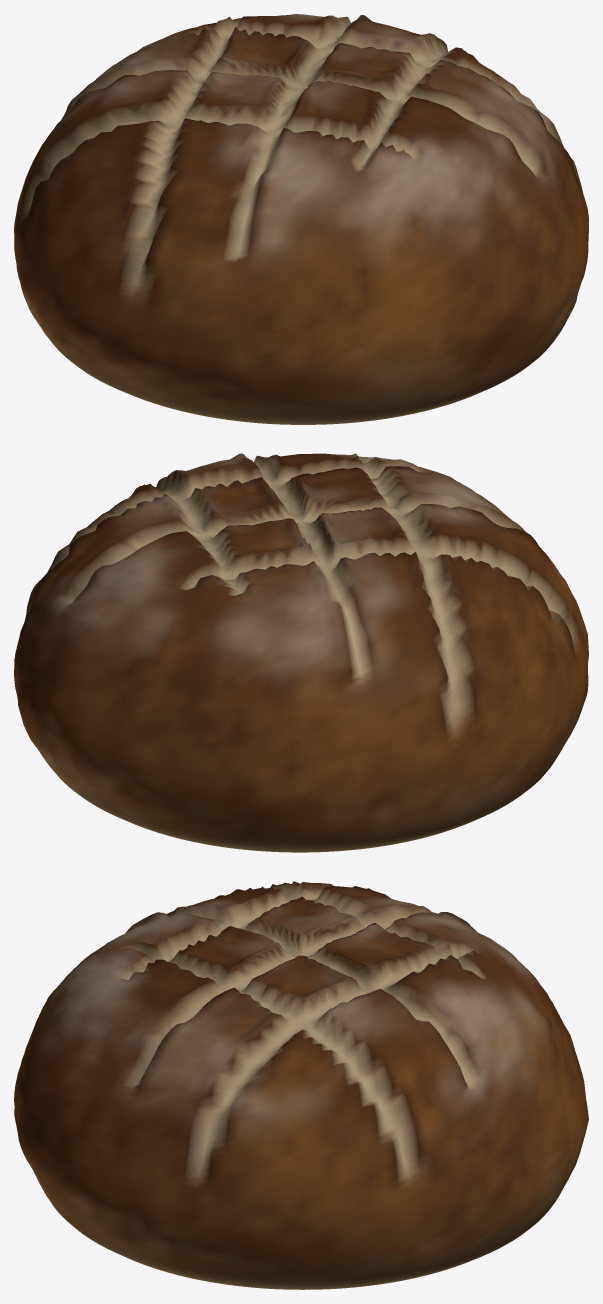
The model's file is koenig-ludwig-500g.glb.
The picture shows the model from 3 angles, top to bottom: view 1: azimuth 30°, elevation 25°; view 2: azimuth 150°, elevation 25°; view 3: azimuth 270°, elevation 25°; orthographic projection. The views are drawn at different scales.
Visible parts, largest first — view 1: koenig-ludwig-500g; view 2: koenig-ludwig-500g; view 3: koenig-ludwig-500g.
Boxes of the visible parts, x1=… form: koenig-ludwig-500g: x1=14, y1=14, x2=588, y2=424; koenig-ludwig-500g: x1=14, y1=453, x2=588, y2=852; koenig-ludwig-500g: x1=14, y1=881, x2=588, y2=1289.
Bounding box in the file's own units: 0.18 × 0.085 × 0.18.
